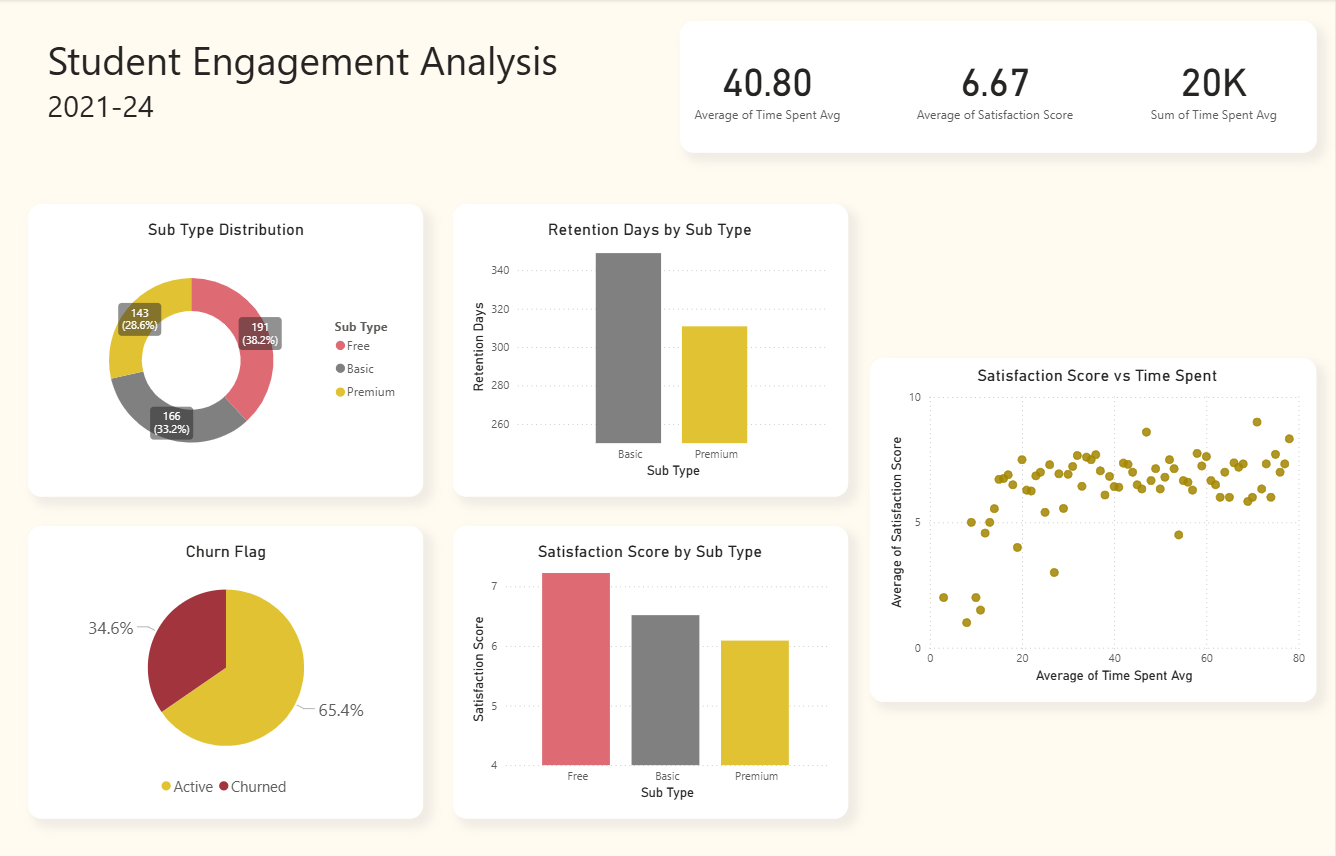

Layout of this report page (visuals, bound fields, positions):
{"tool":"powerbi","page":{"name":"Page 1","canvas":[1460,940],"ordinal":0},"visuals":[{"type":"shape","box":[952,392,488,376],"z":0},{"type":"shape","box":[496,576,432,320],"z":1000},{"type":"shape","box":[32,576,432,320],"z":2000},{"type":"shape","box":[496,224,432,320],"z":3000},{"type":"shape","box":[32,224,432,320],"z":4000},{"type":"donutChart","title":"Sub Type Distribution","fields":{"Y":["CountNonNull(Engagement Data.Student Id)"],"Category":["Engagement Data.Sub Type"]},"box":[48,240,400,288],"z":5000},{"type":"clusteredColumnChart","title":"Retention Days by Sub Type","fields":{"Y":["Avg(Engagement Data.Retention Period (Days))"],"Category":["Engagement Data.Sub Type"]},"box":[512,240,400,288],"z":6000},{"type":"clusteredColumnChart","title":"Satisfaction Score by Sub Type","fields":{"Category":["Engagement Data.Sub Type"],"Y":["Avg(Engagement Data.Satisfaction Score)"]},"box":[512,592,400,288],"z":7000},{"type":"scatterChart","title":"Satisfaction Score vs Time Spent","fields":{"X":["Avg(Engagement Data.Time Spent Avg)"],"Y":["Avg(Engagement Data.Satisfaction Score)"],"Category":["Engagement Data.Time Spent Avg"]},"box":[968,400,464,352],"z":8000},{"type":"shape","box":[744,24,696,144],"z":9000},{"type":"pieChart","title":"Churn Flag","fields":{"Category":["Signup to Enroll Days.Churn Flag"],"Y":["CountNonNull(Signup to Enroll Days.Churn Flag)"]},"box":[48,592,400,288],"z":10000},{"type":"card","fields":{"Values":["Avg(Signup to Enroll Days.Time Spent Avg)"]},"box":[752,32,176,128],"z":11000},{"type":"card","fields":{"Values":["Sum(Signup to Enroll Days.Time Spent Avg)"]},"box":[1232,32,192,128],"z":12000},{"type":"card","fields":{"Values":["Avg(Signup to Enroll Days.Satisfaction Score)"]},"box":[992,32,192,128],"z":13000},{"type":"textbox","box":[48,32,592,128],"z":14000}]}

Visuals, with their boxes in screenshot pixels (x1, y1, x2, y2), scaled from the page's 1460x940 canvas onto the 1336x856 screenshot:
shape: 871/357/1318/699
shape: 454/525/849/816
shape: 29/525/425/816
shape: 454/204/849/495
shape: 29/204/425/495
"Sub Type Distribution" donutChart: 44/219/410/481
"Retention Days by Sub Type" clusteredColumnChart: 469/219/835/481
"Satisfaction Score by Sub Type" clusteredColumnChart: 469/539/835/801
"Satisfaction Score vs Time Spent" scatterChart: 886/364/1310/685
shape: 681/22/1318/153
"Churn Flag" pieChart: 44/539/410/801
card - Avg(Signup to Enroll Days.Time Spent Avg): 688/29/849/146
card - Sum(Signup to Enroll Days.Time Spent Avg): 1127/29/1303/146
card - Avg(Signup to Enroll Days.Satisfaction Score): 908/29/1083/146
textbox: 44/29/586/146
